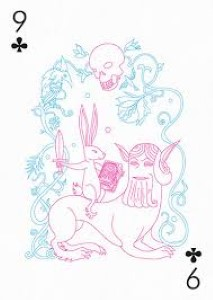NineOfClubs: (6, 11, 208, 288)
